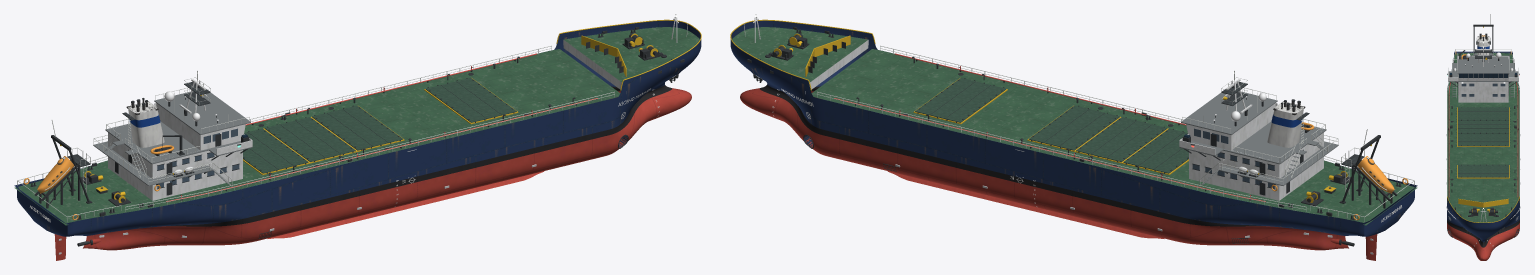
The model's file is blender-hull-V8C.glb.
3 renders of one model, left to right at view 1: azimuth 30°, elevation 25°; view 2: azimuth 150°, elevation 25°; view 3: azimuth 270°, elevation 25°, orthographic. The views are drawn at different scales.
Parts seen in each view (by area): view 1: ShipHull, Main_Deck, CargoBay_Pad_HatchCovers, Accommodation_Block, House_Deck_Levels, Deck_Safety_Rails, House_Outfit_Rails_Ladders, Deck_Mooring_Machinery, Deck_Fittings_Vents, LifeSaving_Davits_Structure, Bilge_Keels, Hatch_Coamings_Cleats (+4 smaller); view 2: ShipHull, Main_Deck, CargoBay_Pad_HatchCovers, Accommodation_Block, House_Deck_Levels, Deck_Safety_Rails, House_Outfit_Rails_Ladders, Deck_Mooring_Machinery, Deck_Fittings_Vents, Bilge_Keels, Hatch_Coamings_Cleats, LifeSaving_Davits_Structure (+4 smaller); view 3: Main_Deck, CargoBay_Pad_HatchCovers, ShipHull, Accommodation_Block, House_Deck_Levels, Hatch_Coamings_Cleats, Deck_Mooring_Machinery, Deck_Fittings_Vents, House_Outfit_Rails_Ladders, Bridge_Window_Glazing, Deck_Safety_Rails, Radar_Mast_Antennas (+6 smaller).
Boxes of the visible parts, <box> form: ShipHull: <box>14,20,701,250</box>; Main_Deck: <box>14,27,699,225</box>; CargoBay_Pad_HatchCovers: <box>243,77,516,173</box>; Accommodation_Block: <box>108,103,245,200</box>; House_Deck_Levels: <box>105,91,252,164</box>; Deck_Safety_Rails: <box>17,19,701,221</box>; House_Outfit_Rails_Ladders: <box>93,83,252,186</box>; Deck_Mooring_Machinery: <box>30,14,687,220</box>; Deck_Fittings_Vents: <box>166,53,597,202</box>; LifeSaving_Davits_Structure: <box>34,120,194,215</box>; Bilge_Keels: <box>267,171,544,238</box>; Hatch_Coamings_Cleats: <box>243,78,518,174</box>; ShipHull: <box>730,20,1417,250</box>; Main_Deck: <box>732,27,1417,225</box>; CargoBay_Pad_HatchCovers: <box>915,77,1188,173</box>; Accommodation_Block: <box>1186,103,1323,200</box>; House_Deck_Levels: <box>1179,91,1326,164</box>; Deck_Safety_Rails: <box>730,19,1414,221</box>; House_Outfit_Rails_Ladders: <box>1179,83,1338,186</box>; Deck_Mooring_Machinery: <box>744,14,1401,220</box>; Deck_Fittings_Vents: <box>834,53,1265,202</box>; Bilge_Keels: <box>887,171,1164,238</box>; Hatch_Coamings_Cleats: <box>913,78,1188,174</box>; LifeSaving_Davits_Structure: <box>1237,127,1397,215</box>; Main_Deck: <box>1447,53,1519,222</box>; CargoBay_Pad_HatchCovers: <box>1457,107,1509,177</box>; ShipHull: <box>1447,51,1519,260</box>; Accommodation_Block: <box>1458,56,1508,102</box>; House_Deck_Levels: <box>1448,55,1518,81</box>; Hatch_Coamings_Cleats: <box>1456,107,1510,178</box>; Deck_Mooring_Machinery: <box>1448,55,1518,233</box>; Deck_Fittings_Vents: <box>1448,82,1518,197</box>; House_Outfit_Rails_Ladders: <box>1447,50,1519,97</box>; Bridge_Window_Glazing: <box>1458,73,1508,96</box>; Deck_Safety_Rails: <box>1447,49,1519,222</box>; Radar_Mast_Antennas: <box>1465,41,1501,66</box>.
Bounding box in the file's own units: 45.18 × 10.55 × 7.79.
Materials: 25 (10 with a texture image).
